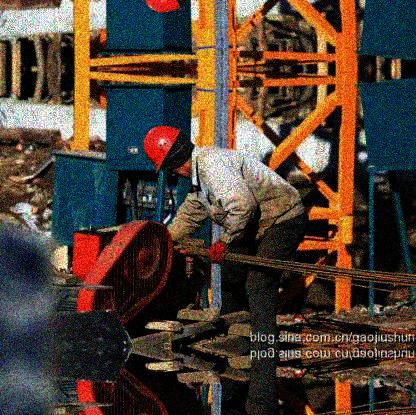helmet: (143, 125, 194, 185)
